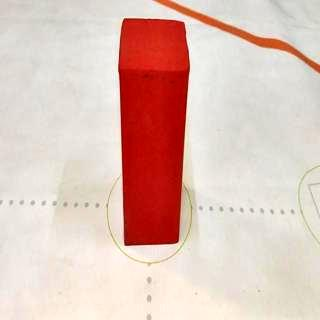redbox: (118, 17, 189, 246)
